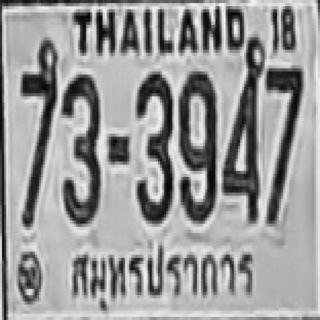N03: (60, 71, 100, 224), (135, 68, 172, 221)
N04: (222, 59, 260, 220)
N07: (18, 57, 58, 222), (264, 65, 302, 221)
N09: (177, 68, 216, 221)
P57: (65, 239, 256, 309)
